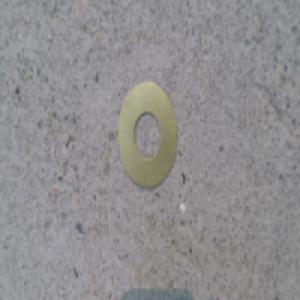Washer: (115, 77, 177, 189)
